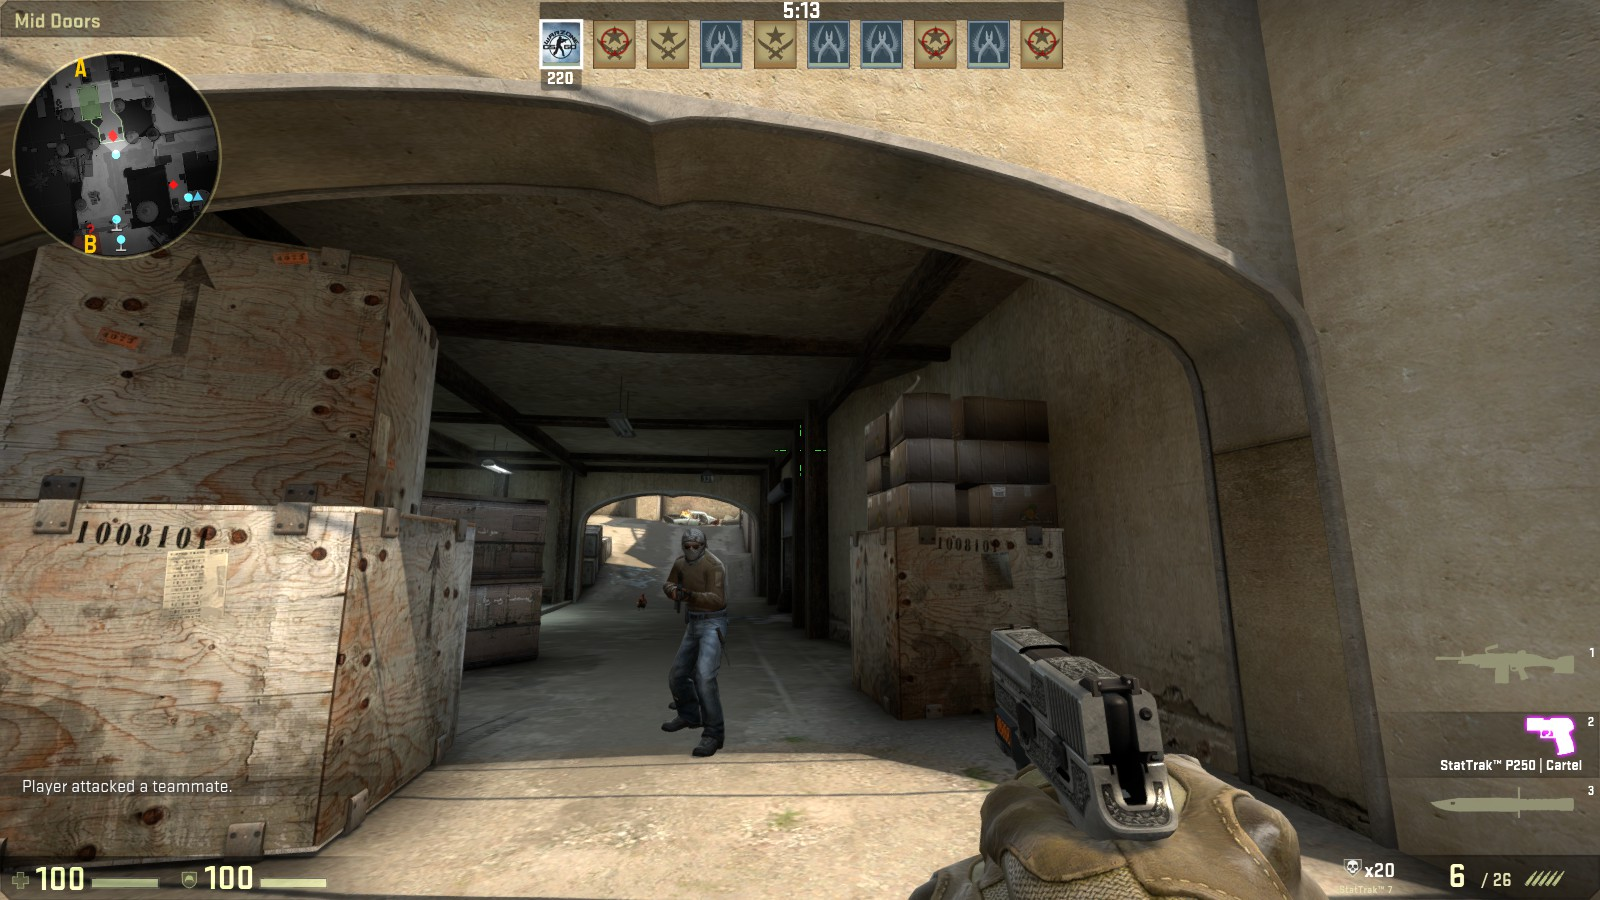t: (663, 525, 729, 754)
th: (676, 527, 709, 564)
